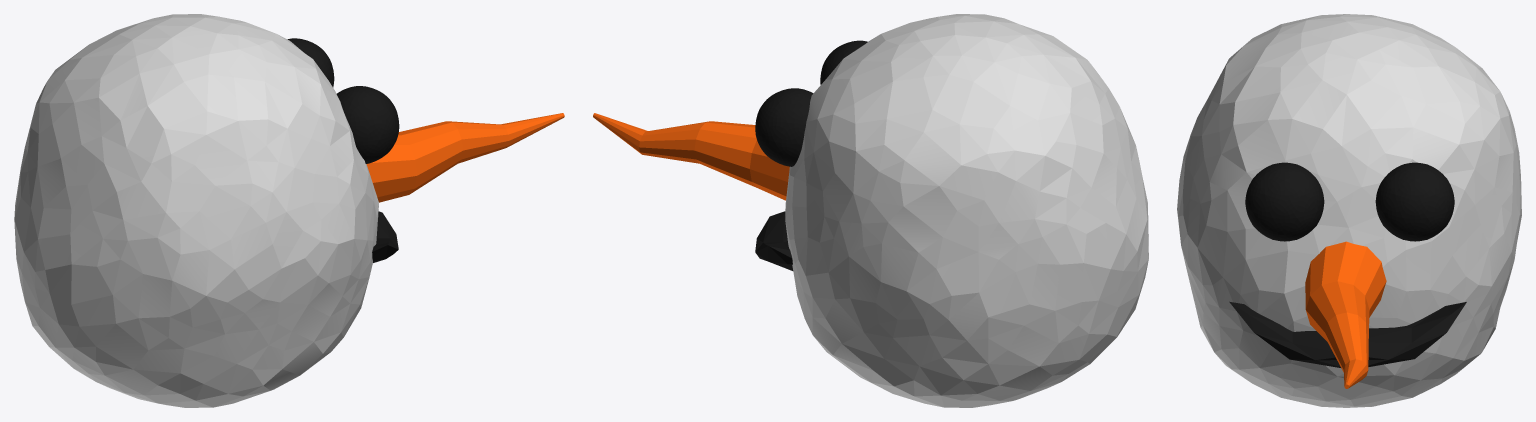
The model's file is head.gltf.
3 views of the same model, side by side, from view 1: azimuth 30°, elevation 25°; view 2: azimuth 150°, elevation 25°; view 3: azimuth 270°, elevation 25° (orthographic).
Visible parts, largest first — view 1: Icosphere.002, Cylinder, Icosphere.006, Icosphere.008, Icosphere.007; view 2: Icosphere.002, Cylinder, Icosphere.007, Icosphere.008, Icosphere.006; view 3: Icosphere.002, Cylinder, Icosphere.008, Icosphere.006, Icosphere.007.
Part boxes in pixels (box(x1,y1,x2,y2)): Icosphere.002: box(14, 14, 378, 407); Cylinder: box(366, 113, 564, 202); Icosphere.006: box(336, 86, 399, 163); Icosphere.008: box(372, 211, 398, 262); Icosphere.007: box(287, 38, 334, 87); Icosphere.002: box(785, 14, 1148, 407); Cylinder: box(593, 113, 789, 200); Icosphere.007: box(755, 88, 813, 166); Icosphere.008: box(755, 211, 793, 270); Icosphere.006: box(820, 40, 867, 84); Icosphere.002: box(1177, 14, 1521, 407); Cylinder: box(1305, 241, 1386, 388); Icosphere.008: box(1229, 301, 1466, 367); Icosphere.006: box(1245, 162, 1324, 241); Icosphere.007: box(1375, 162, 1454, 241).
Bounding box in the file's own units: 163 × 105 × 91.32.
